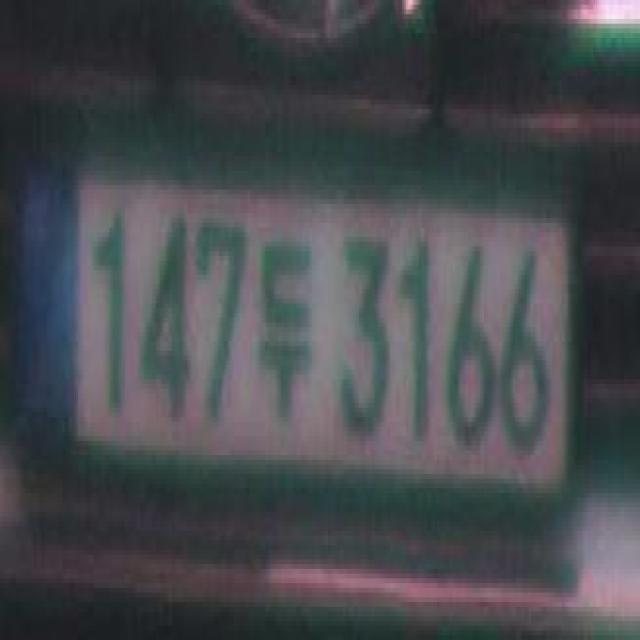illegal_plate: (10, 109, 582, 562)
